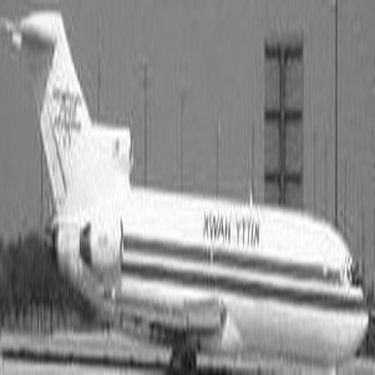airplane: (3, 4, 373, 372)
